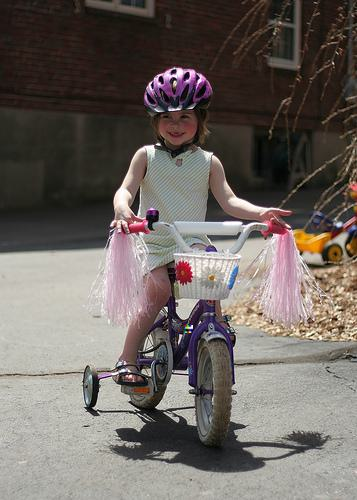car: (83, 207, 296, 451)
person: (110, 63, 294, 392)
